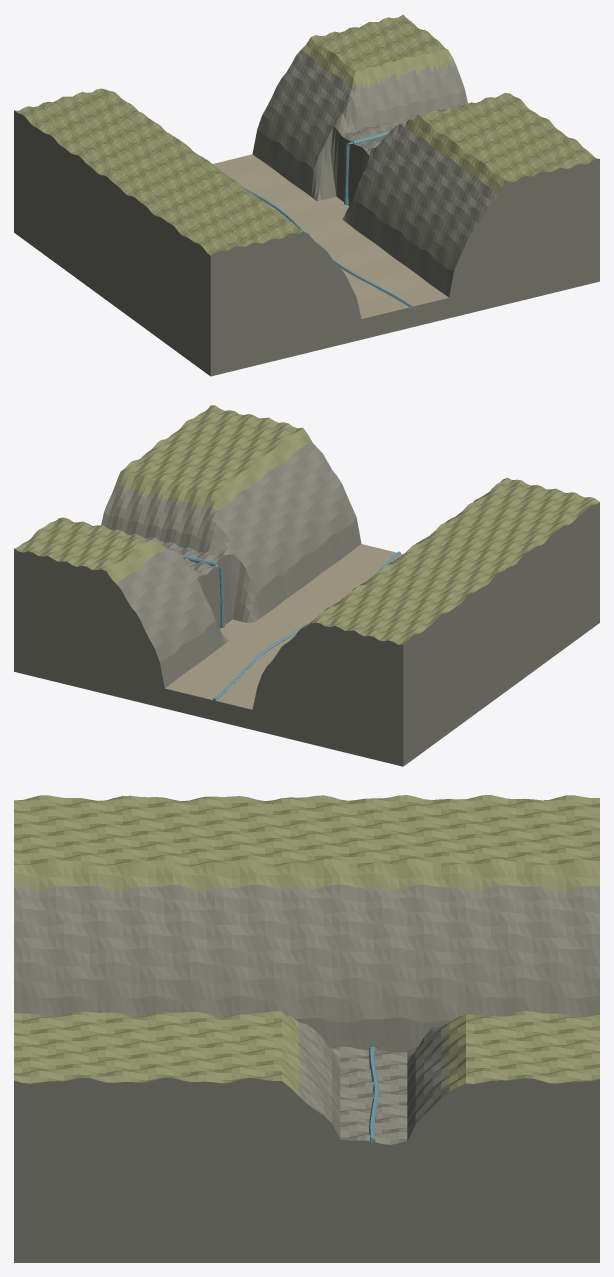
3 views of the same model, one above another, from view 1: azimuth 30°, elevation 25°; view 2: azimuth 150°, elevation 25°; view 3: azimuth 270°, elevation 25° (orthographic). The views are drawn at different scales.
Visible parts, largest first — view 1: solid_main_trough_and_elevated_tributary, main_valley_stream; view 2: solid_main_trough_and_elevated_tributary, main_valley_stream; view 3: solid_main_trough_and_elevated_tributary.
Boxes of the visible parts, x1=… form: solid_main_trough_and_elevated_tributary: x1=14, y1=14, x2=599, y2=376; main_valley_stream: x1=242, y1=186, x2=412, y2=308; solid_main_trough_and_elevated_tributary: x1=14, y1=405, x2=599, y2=766; main_valley_stream: x1=213, y1=551, x2=400, y2=700; solid_main_trough_and_elevated_tributary: x1=14, y1=795, x2=599, y2=1262.
Size of the model in its own units: 80.02 by 24.43 by 70.02.
